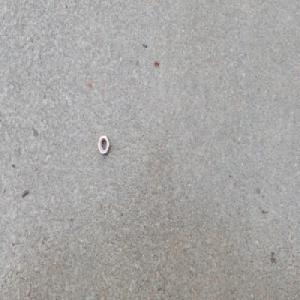Nut: (97, 135, 109, 156)
